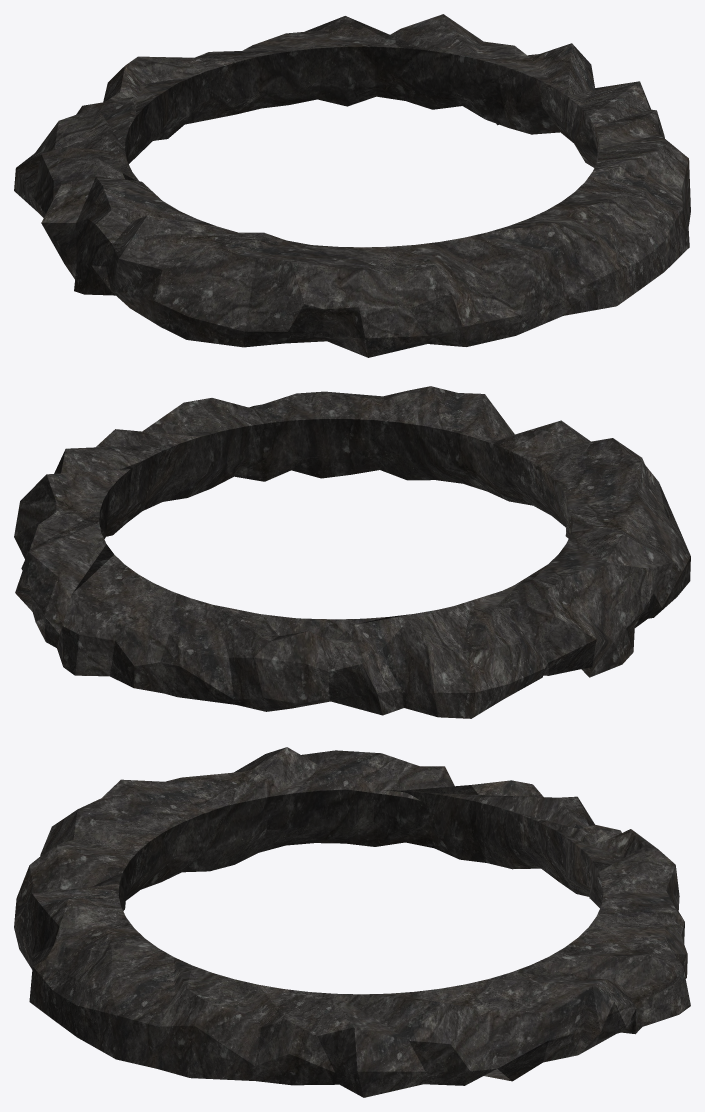
File: spooky-tower-rocks-base-art.glb
3 views of the same model, one above another, from view 1: azimuth 30°, elevation 25°; view 2: azimuth 150°, elevation 25°; view 3: azimuth 270°, elevation 25° (orthographic). The views are drawn at different scales.
Parts seen in each view (by area): view 1: Spooky_Tower_Rocks_Base_Art; view 2: Spooky_Tower_Rocks_Base_Art; view 3: Spooky_Tower_Rocks_Base_Art.
Part boxes in pixels (x1,y1,x2,y2): Spooky_Tower_Rocks_Base_Art: (14, 14, 690, 357); Spooky_Tower_Rocks_Base_Art: (14, 386, 690, 718); Spooky_Tower_Rocks_Base_Art: (14, 747, 690, 1097).
Bounding box in the file's own units: 13.43 × 2.28 × 13.31.
1 material, 1 textured.
